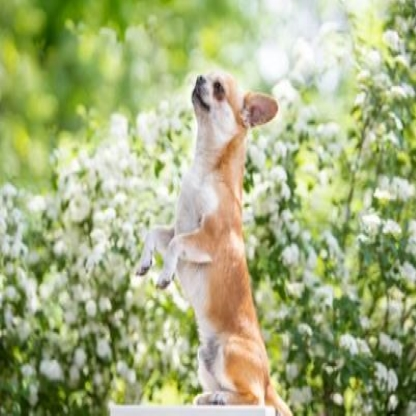chihuahua: (132, 68, 298, 416)
